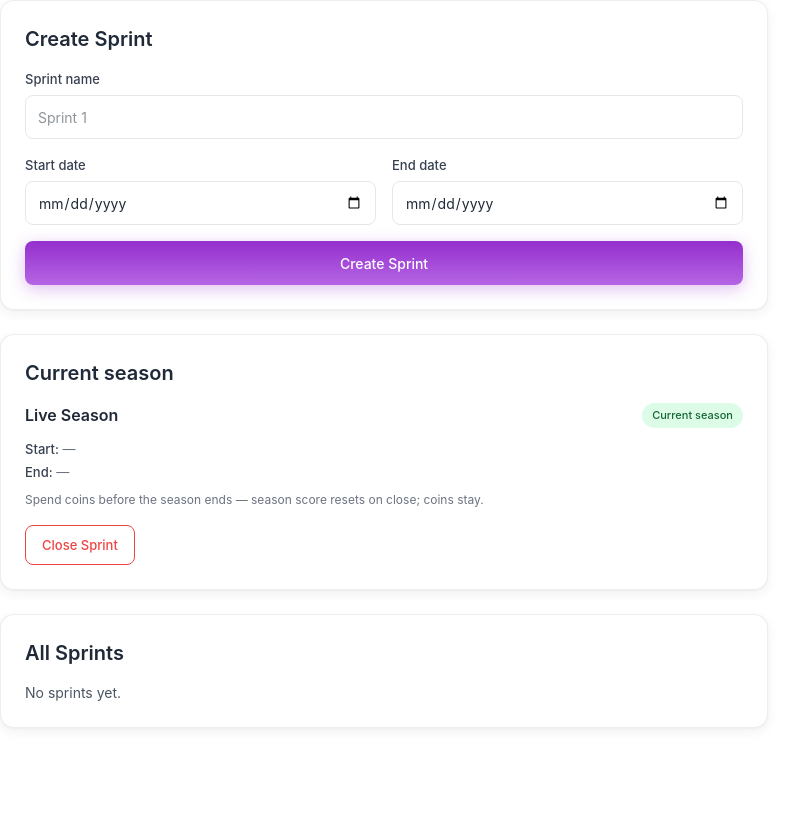
Test: SprintManagementTab › surfaces an error when closing a sprint rejects
Click the button "Close Sprint": point(80, 544) [25,524,135,564]
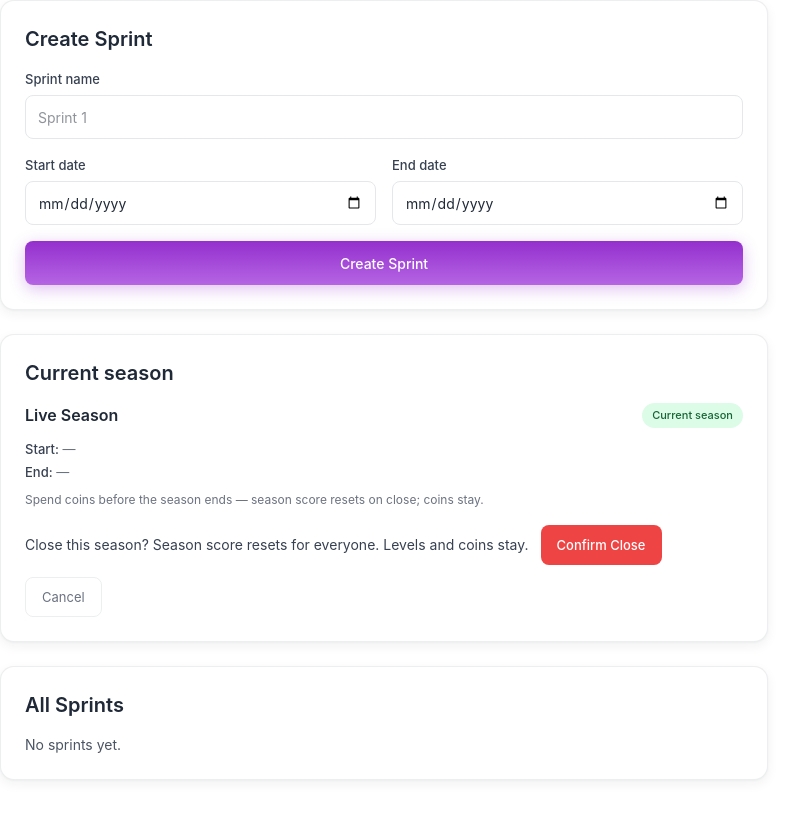
Click the button "Confirm Close": point(601, 544) [540,524,662,564]
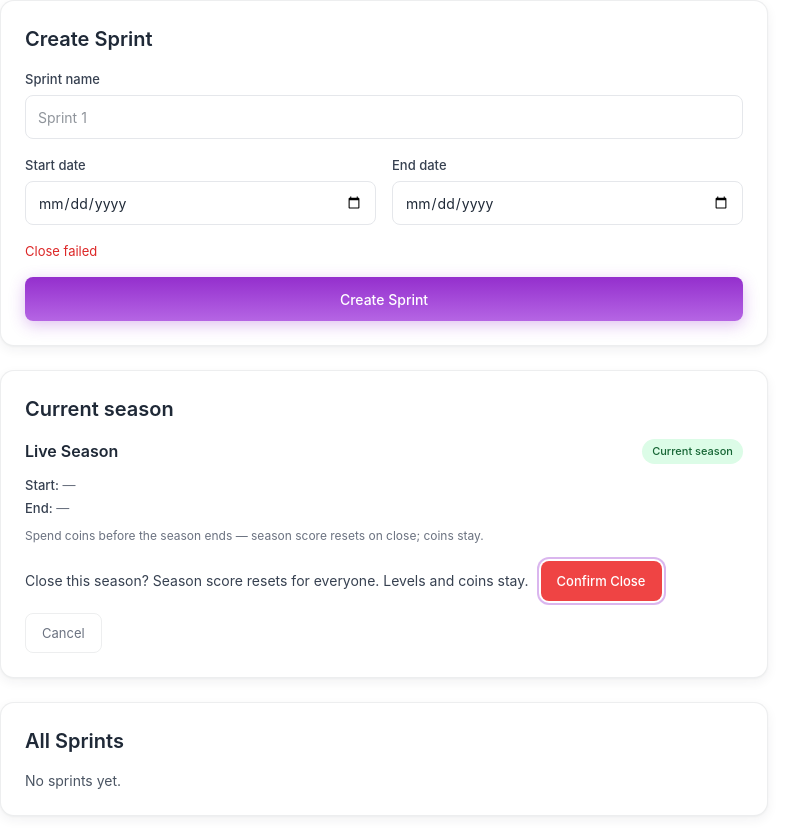
Expected: the text "Close failed" is shown, [25,243,97,259]
